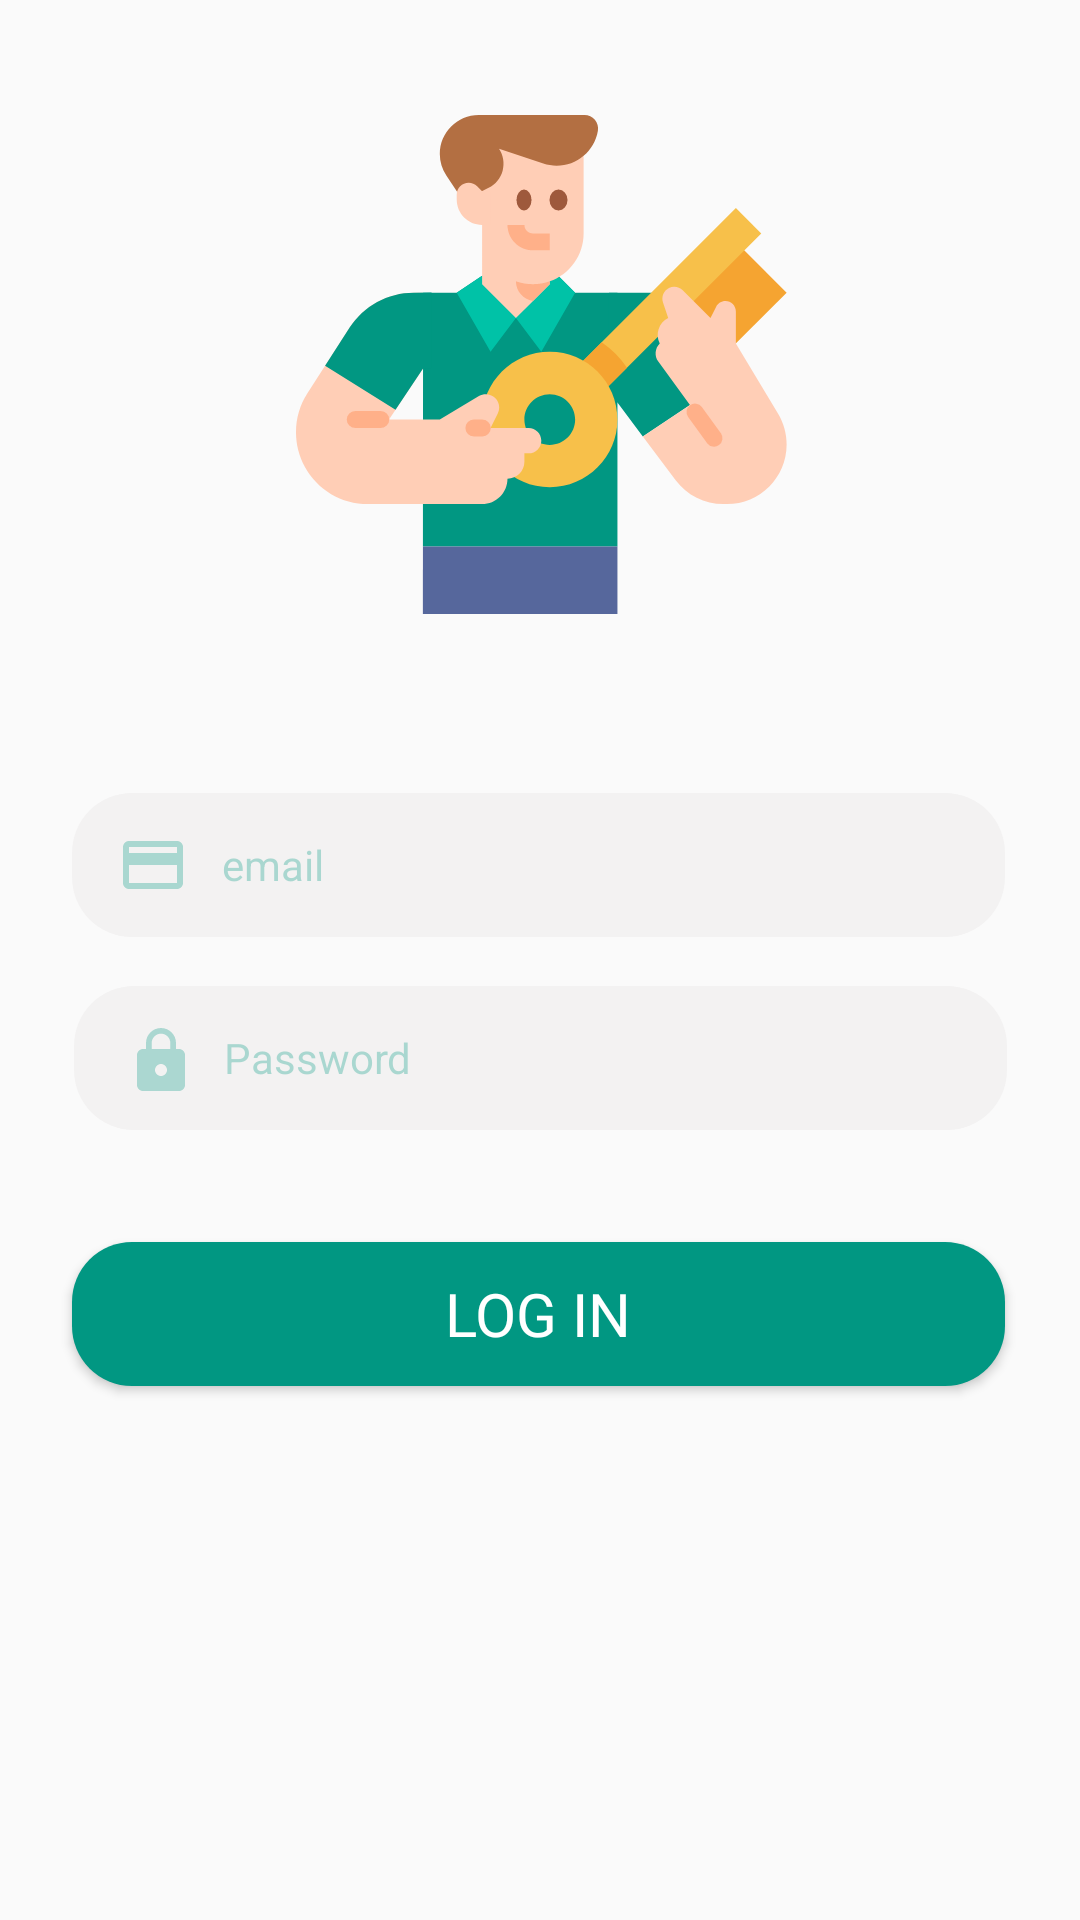

Icon click points for this 1080 x 1920 phone screenshot, format (x,y):
credit card: (153,865)
lock: (161,1059)
